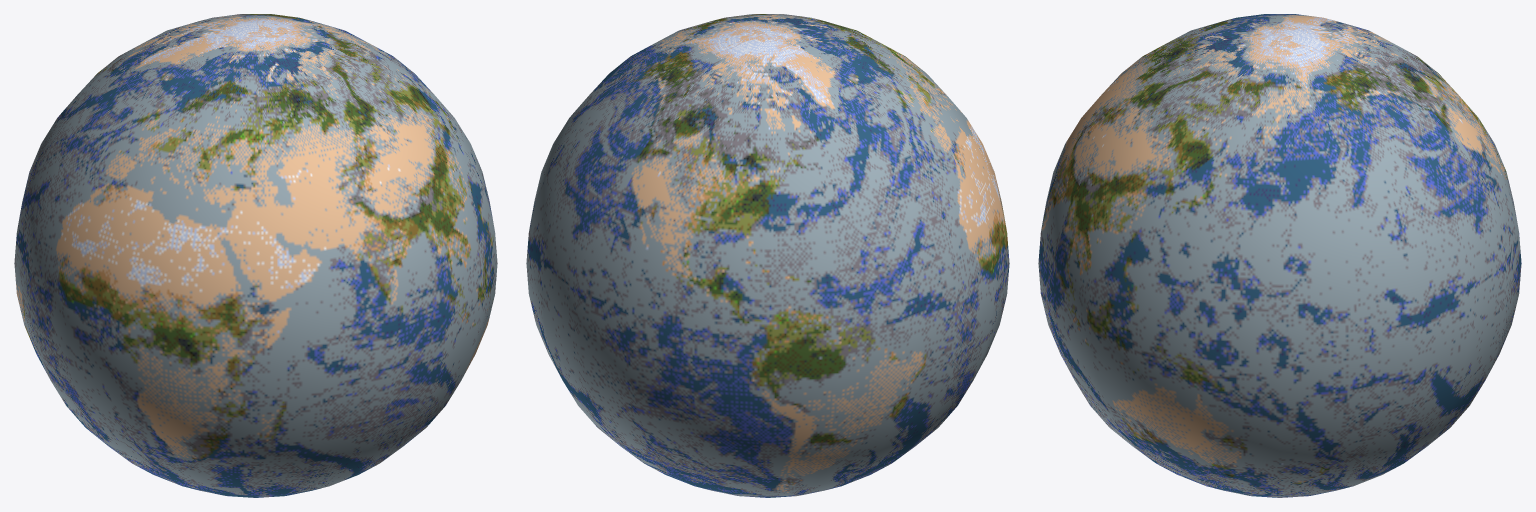
The model's file is PSX Earth.fbx.
3 renders of one model, left to right at view 1: azimuth 30°, elevation 25°; view 2: azimuth 150°, elevation 25°; view 3: azimuth 270°, elevation 25°, orthographic.
Parts seen in each view (by area): view 1: pSphere1; view 2: pSphere1; view 3: pSphere1.
Boxes of the visible parts, x1,y1,x2,y2 form: pSphere1: [14, 14, 497, 497]; pSphere1: [526, 14, 1009, 497]; pSphere1: [1038, 14, 1521, 497].
Bounding box in the file's own units: 117 × 117 × 117.
1 material, 1 textured.
